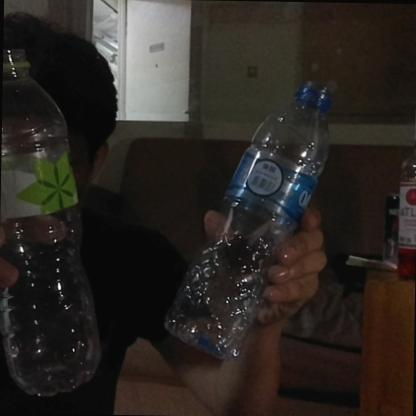plastic_bottles: (162, 73, 336, 364), (0, 47, 107, 404)
